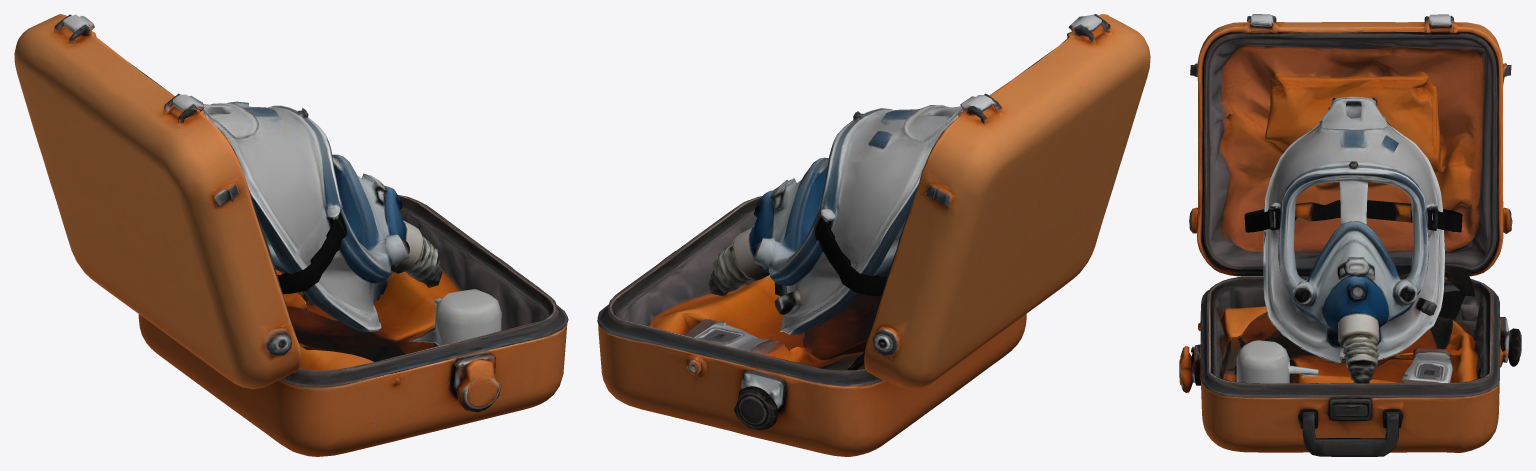
The model's file is mask.glb.
3 renders of one model, left to right at view 1: azimuth 30°, elevation 25°; view 2: azimuth 150°, elevation 25°; view 3: azimuth 270°, elevation 25°, orthographic. The views are drawn at different scales.
Parts seen in each view (by area): view 1: tripo_node_9493a7a9-db1c-4e76-8473-0e7f7f3cc733; view 2: tripo_node_9493a7a9-db1c-4e76-8473-0e7f7f3cc733; view 3: tripo_node_9493a7a9-db1c-4e76-8473-0e7f7f3cc733.
Boxes of the visible parts, left/top/right/bottom form: tripo_node_9493a7a9-db1c-4e76-8473-0e7f7f3cc733: left=14, top=14, right=568, bottom=456; tripo_node_9493a7a9-db1c-4e76-8473-0e7f7f3cc733: left=597, top=14, right=1150, bottom=456; tripo_node_9493a7a9-db1c-4e76-8473-0e7f7f3cc733: left=1179, top=14, right=1521, bottom=456.
Size of the model in its own units: 0.9805 by 0.8135 by 0.8299.
Materials: 1 (1 with a texture image).
